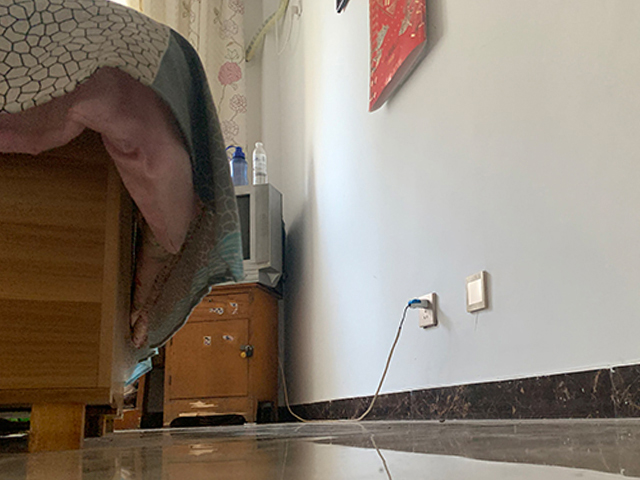bed: (1, 1, 246, 447)
cabinet: (159, 281, 280, 426)
wire: (282, 298, 430, 424)
